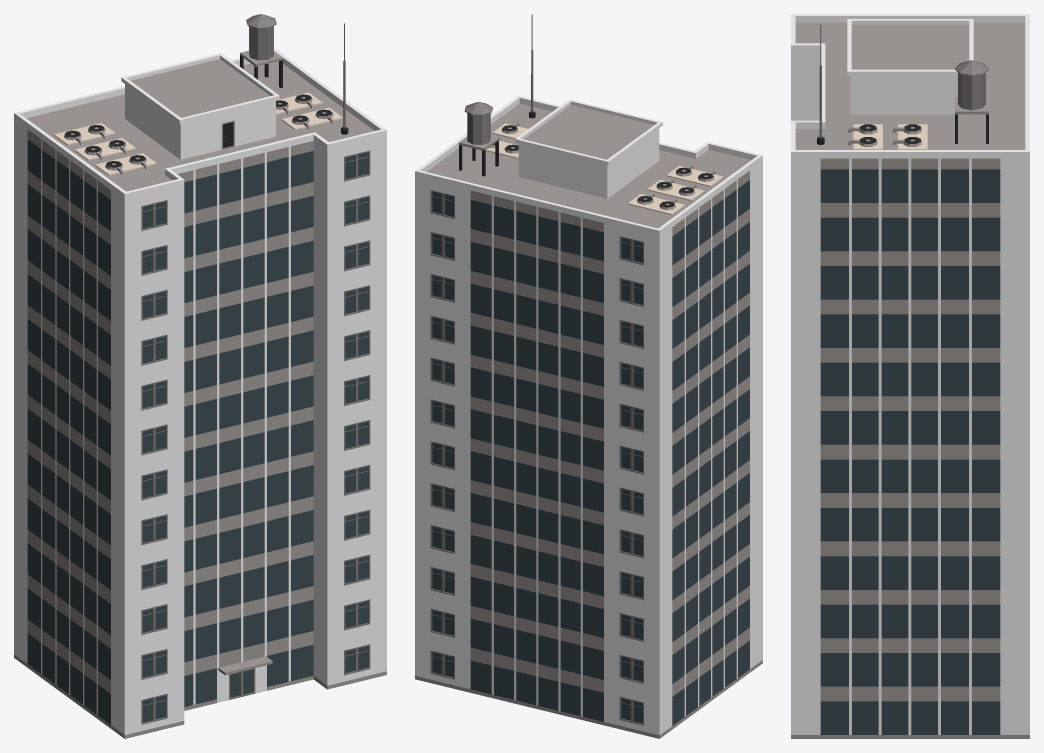
The model's file is buildings_building-office-big.fbx.
The picture shows the model from 3 angles, left to right: view 1: azimuth 30°, elevation 25°; view 2: azimuth 150°, elevation 25°; view 3: azimuth 270°, elevation 25°; orthographic projection. The views are drawn at different scales.
Visible parts, largest first — view 1: buildings_building_office_big; view 2: buildings_building_office_big; view 3: buildings_building_office_big.
Boxes of the visible parts, x1,y1,x2,y2 form: buildings_building_office_big: (14,14,386,738); buildings_building_office_big: (415,14,762,738); buildings_building_office_big: (791,14,1029,738).
Size of the model in its own units: 84.49 by 200 by 61.83.
